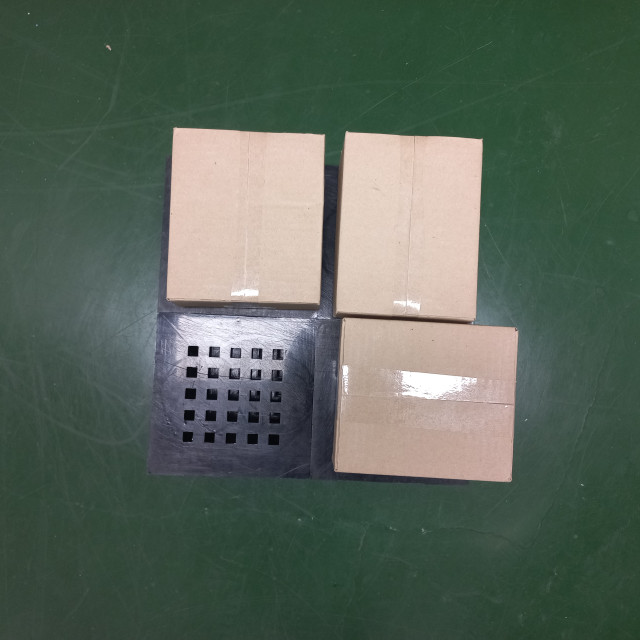box: (333, 318, 518, 484), (332, 130, 486, 327), (164, 123, 327, 308)
